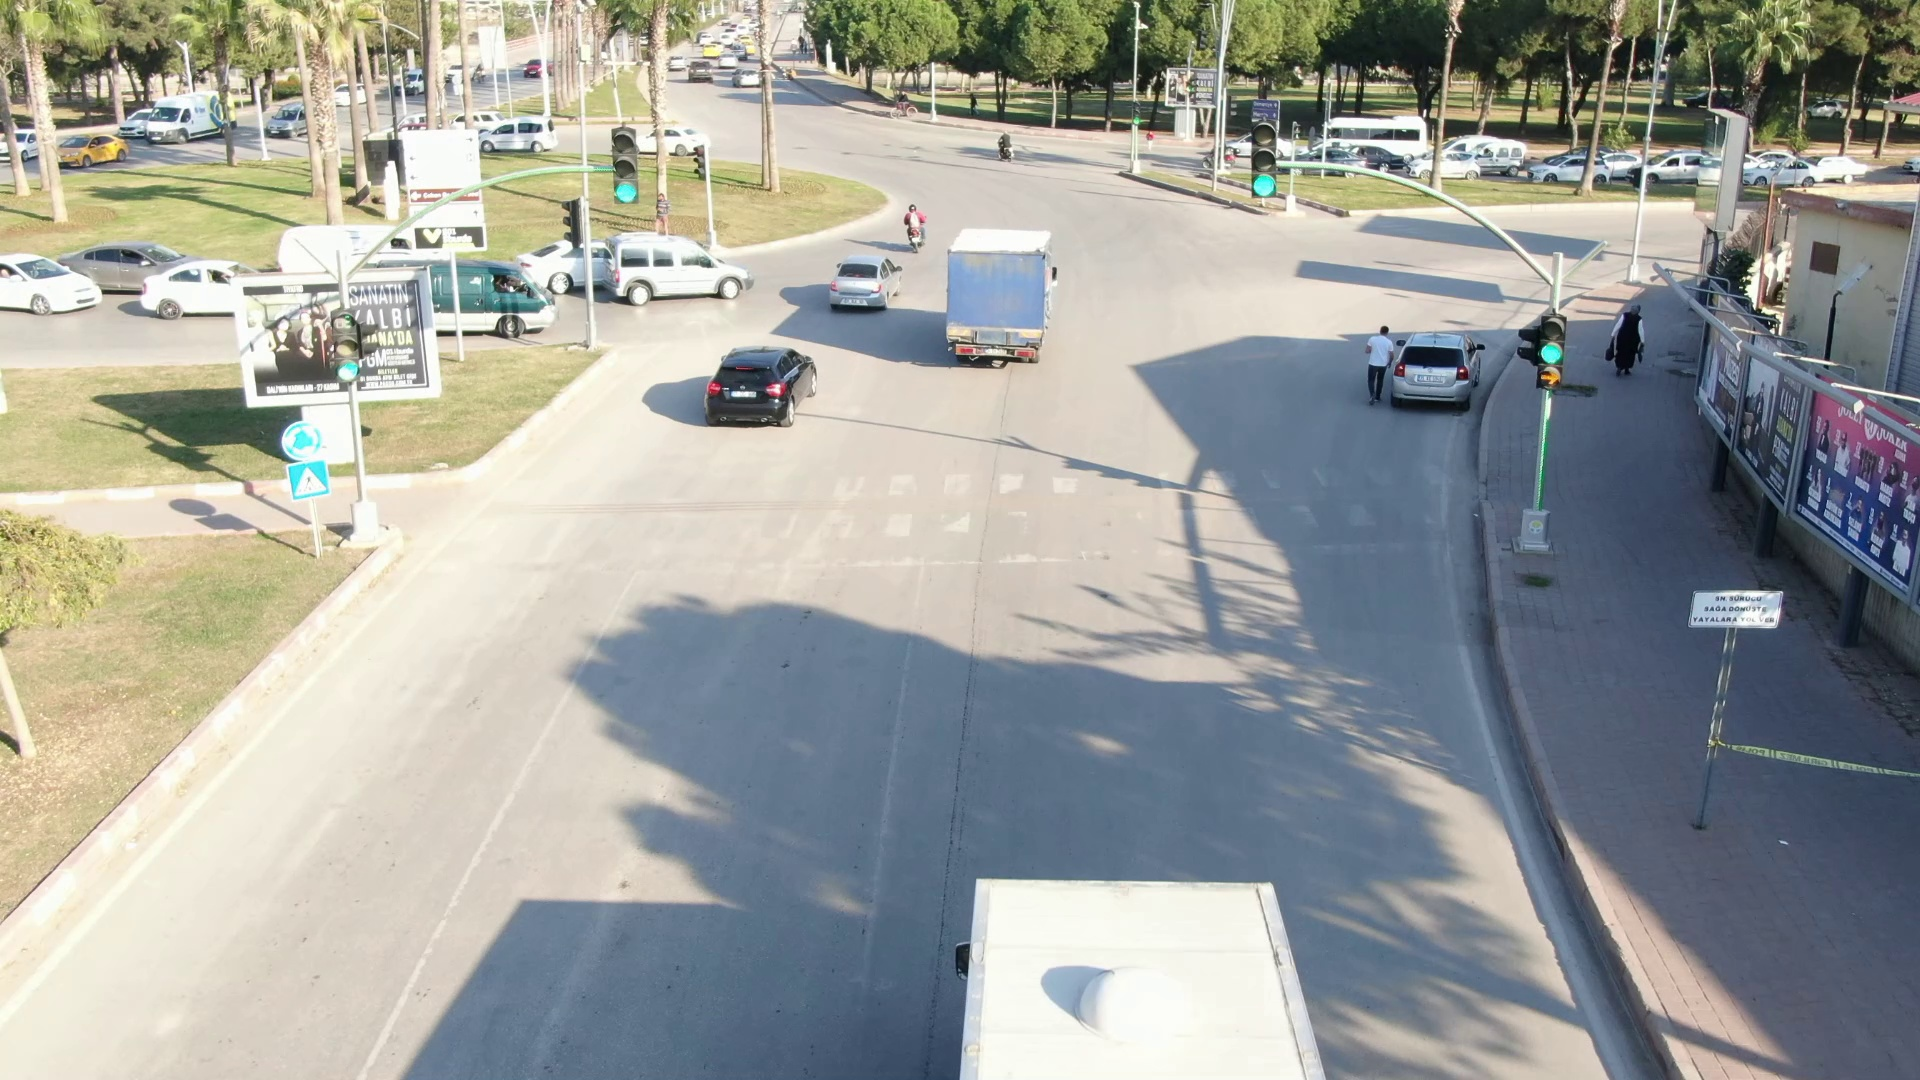car: (697, 319, 823, 437), (425, 250, 568, 341), (603, 227, 764, 306), (1392, 323, 1492, 422), (1, 241, 123, 320), (137, 249, 260, 326), (819, 244, 910, 315), (138, 90, 244, 148), (472, 107, 571, 159), (1525, 147, 1619, 192), (57, 124, 140, 176), (1396, 142, 1487, 185), (683, 53, 715, 86)
person: (1602, 298, 1651, 379), (1357, 321, 1394, 406)
